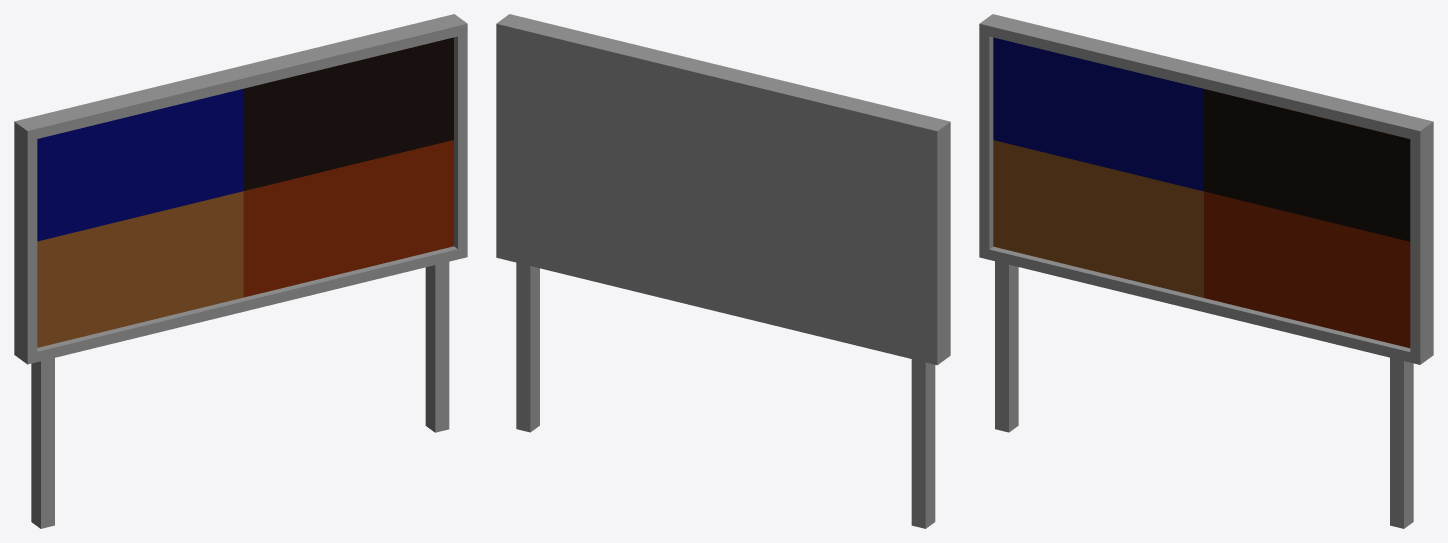
Rendered from marcador.FBX.
The picture shows the model from 3 angles, left to right: view 1: azimuth 30°, elevation 25°; view 2: azimuth 150°, elevation 25°; view 3: azimuth 330°, elevation 25°; orthographic projection.
Parts seen in each view (by area): view 1: Plane002; view 2: Plane002; view 3: Plane002.
Boxes of the visible parts, <box> form: Plane002: <box>14,14,467,528</box>; Plane002: <box>496,14,950,528</box>; Plane002: <box>979,14,1433,528</box>.
Size of the model in its own units: 922 by 805 by 48.13.
